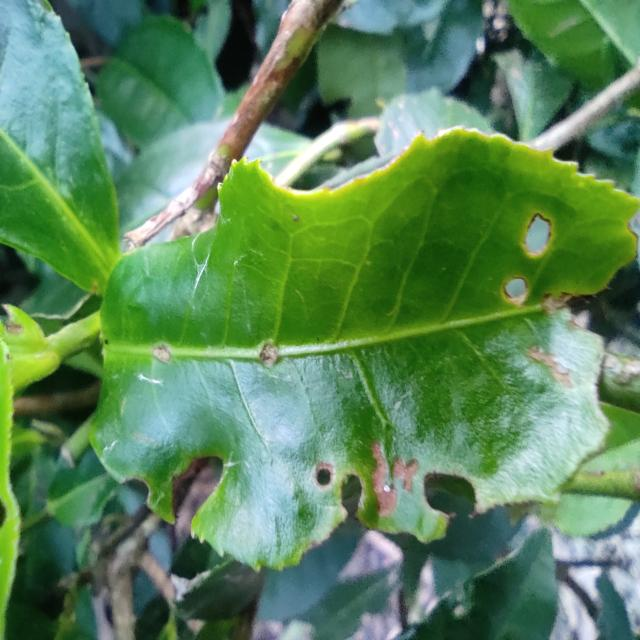Category C(4-7 days): (50, 100, 640, 556)
